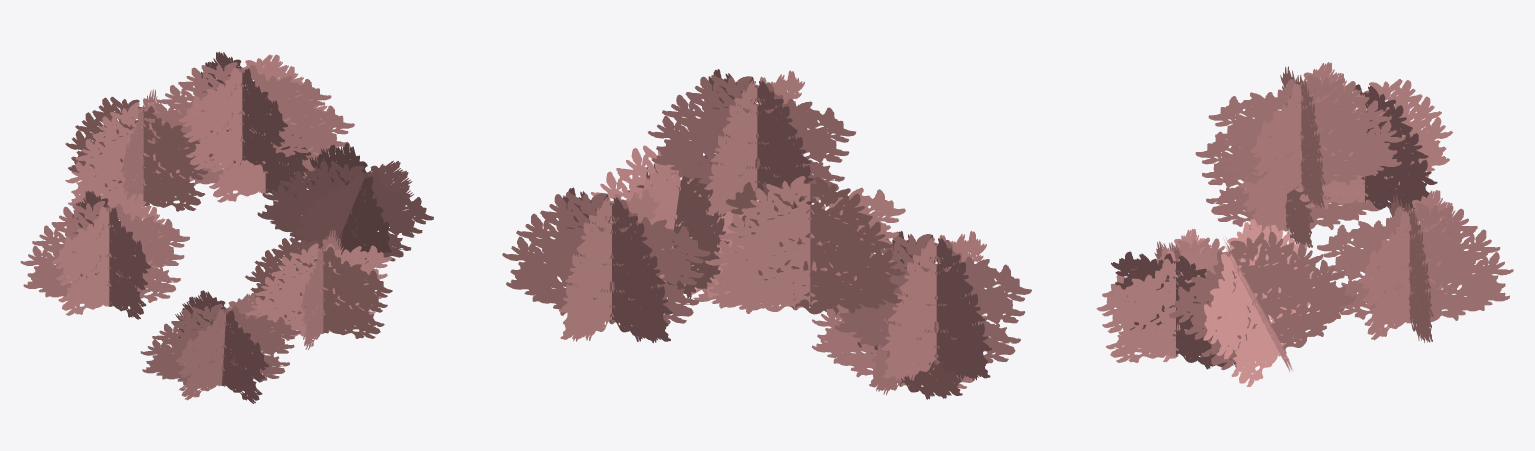
The model's file is sakura.fbx.
3 renders of one model, left to right at view 1: azimuth 30°, elevation 25°; view 2: azimuth 150°, elevation 25°; view 3: azimuth 270°, elevation 25°, orthographic. The views are drawn at different scales.
Visible parts, largest first — view 1: sakura1; view 2: sakura1; view 3: sakura1.
Part boxes in pixels (x1,y1,x2,y2): sakura1: [20, 51, 433, 403]; sakura1: [502, 69, 1031, 399]; sakura1: [1096, 62, 1513, 386].
Bounding box in the file's own units: 1071 × 808 × 927.
